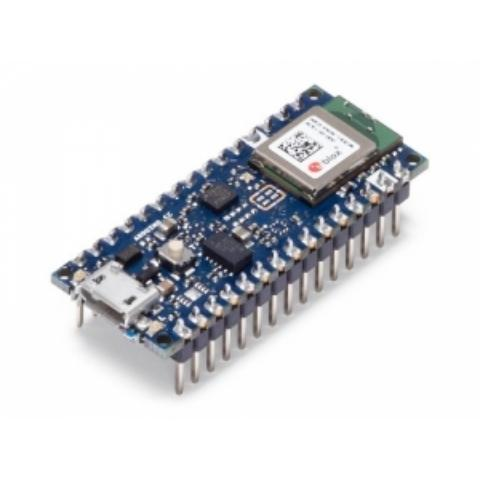Arduino-Nano: (36, 81, 440, 397)
